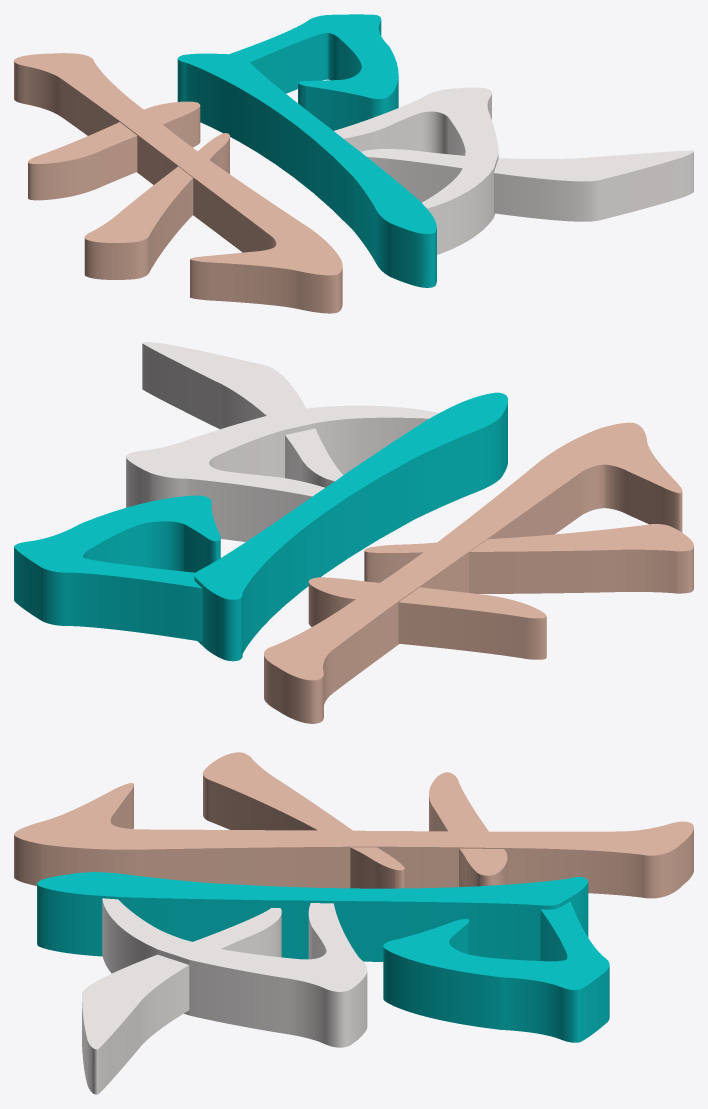
File: hanzi149.fbx
3 views of the same model, one above another, from view 1: azimuth 30°, elevation 25°; view 2: azimuth 150°, elevation 25°; view 3: azimuth 270°, elevation 25° (orthographic). The views are drawn at different scales.
Visible parts, largest first — view 1: Curve.001, Curve.004, Curve.006, Curve.003, Curve.005, Curve.002, Curve; view 2: Curve.001, Curve.004, Curve.003, Curve.005, Curve.002, Curve.006, Curve; view 3: Curve.001, Curve.004, Curve.003, Curve.005, Curve.006, Curve.002, Curve.
Part boxes in pixels (x1,y1,x2,y2): Curve.001: (14, 53, 342, 313); Curve.004: (177, 53, 436, 287); Curve.006: (360, 149, 693, 221); Curve.003: (229, 14, 398, 130); Curve.005: (334, 87, 498, 254); Curve.002: (84, 133, 229, 279); Curve: (28, 101, 200, 200); Curve.001: (264, 422, 682, 723); Curve.004: (194, 392, 507, 661); Curve.003: (14, 495, 220, 641); Curve.005: (126, 405, 438, 541); Curve.002: (364, 524, 693, 593); Curve.006: (142, 342, 343, 487); Curve: (308, 577, 546, 659); Curve.001: (14, 783, 693, 898); Curve.004: (37, 872, 588, 961); Curve.003: (383, 901, 609, 1042); Curve.005: (102, 898, 367, 1047); Curve.006: (82, 908, 281, 1094); Curve.002: (203, 752, 404, 888); Curve: (429, 772, 507, 886).
Bounding box in the file's own units: 25.29 × 24.31 × 2.39.
